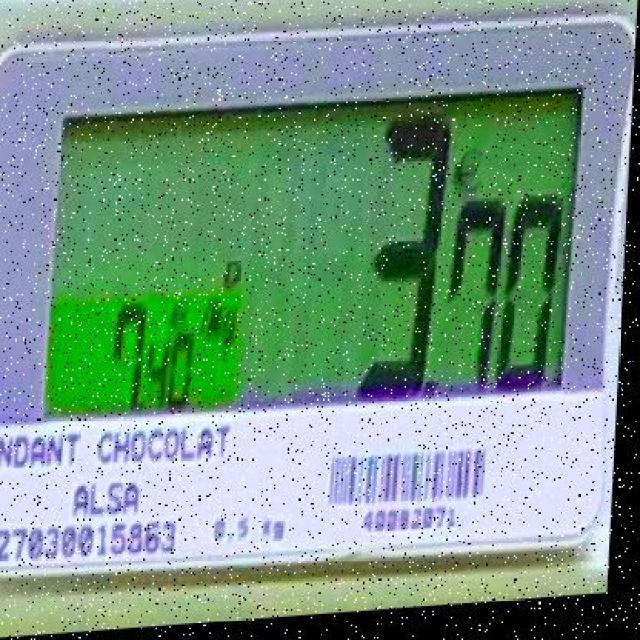display: (41, 86, 588, 418)
frame: (348, 108, 567, 403), (97, 294, 203, 414), (0, 515, 182, 565)
gauge: (0, 15, 640, 581)
